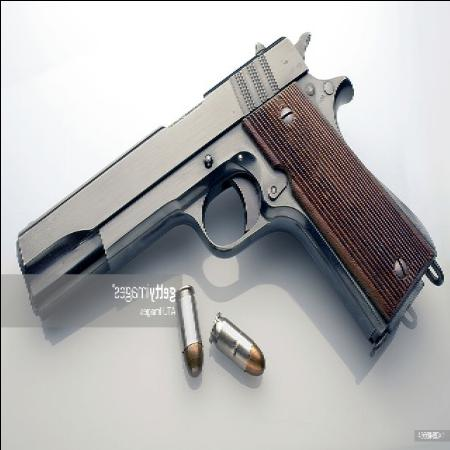Pistol: (14, 25, 447, 352)
